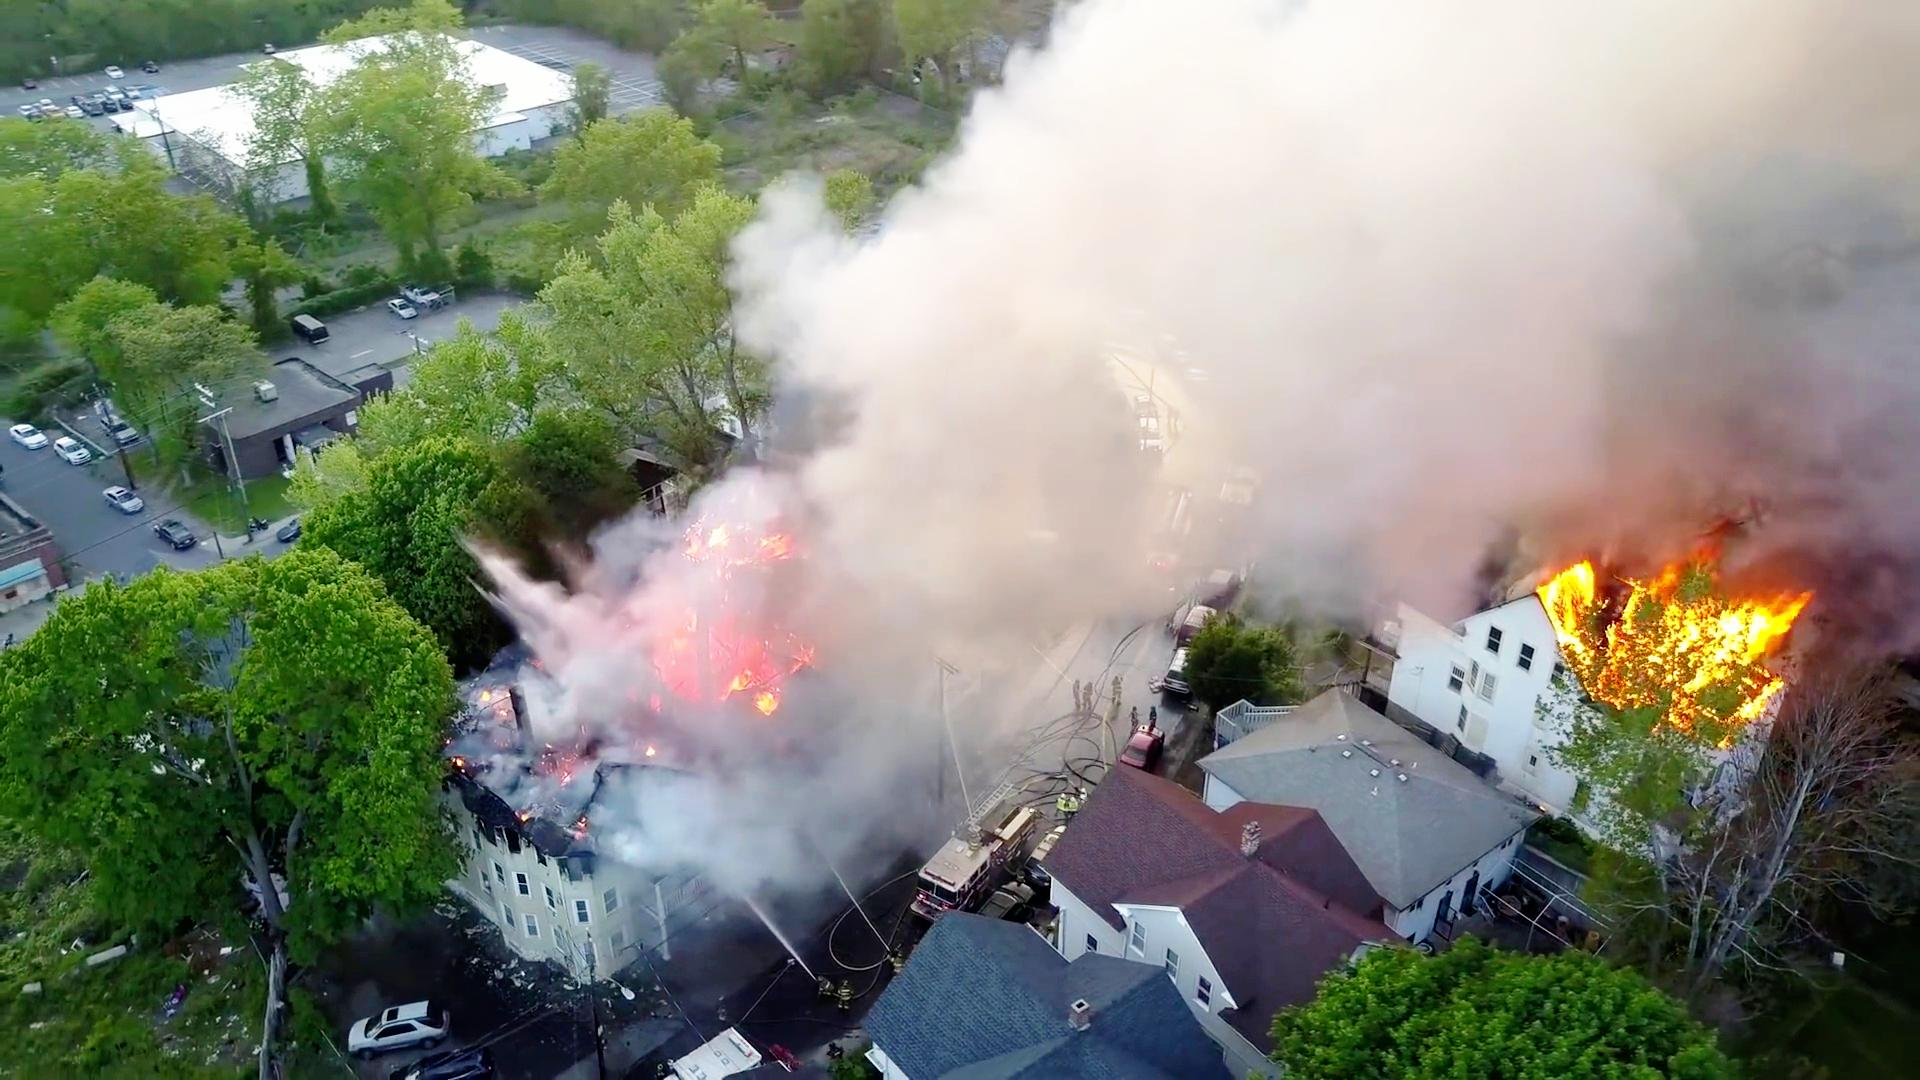fire: (1553, 551, 1795, 740)
smoke: (815, 315, 1015, 621)
